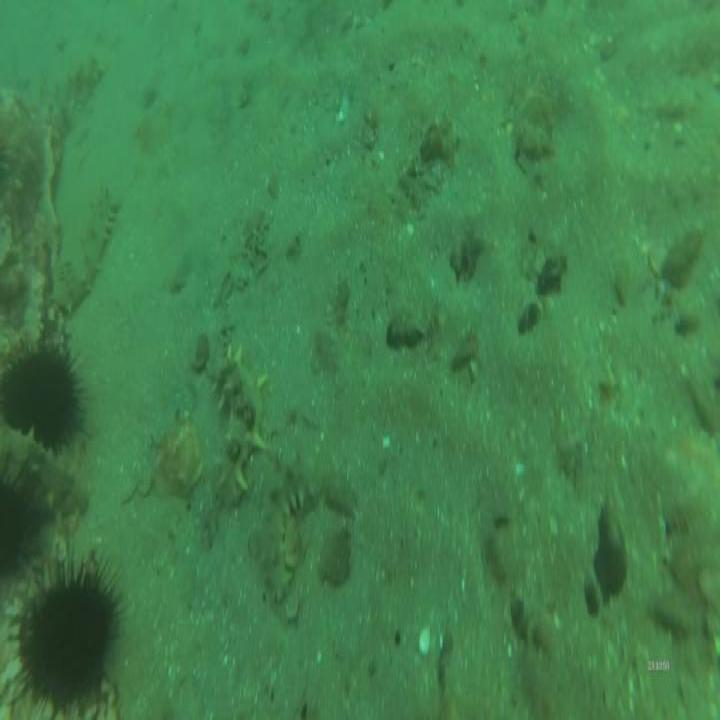echinus: (0, 539, 139, 702), (6, 325, 94, 459), (0, 471, 54, 574)
holothurian: (205, 340, 272, 518), (49, 185, 122, 323), (262, 461, 311, 606)
